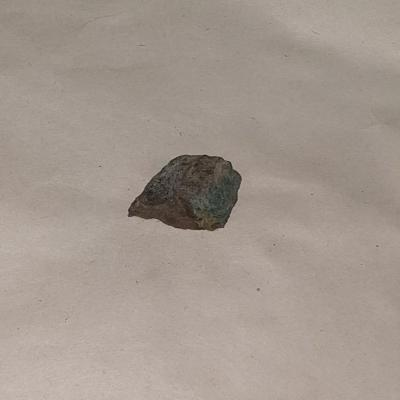mineralogy: (127, 154, 242, 233)
